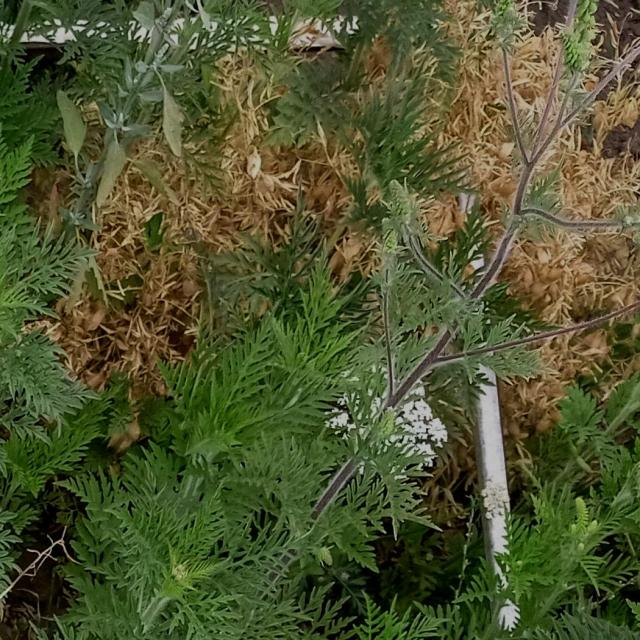AMBEL: (64, 478, 297, 640), (311, 25, 470, 222), (142, 314, 277, 482), (232, 235, 370, 398), (0, 164, 41, 604), (546, 370, 634, 460), (0, 0, 42, 154), (342, 589, 470, 639), (540, 588, 640, 640)
